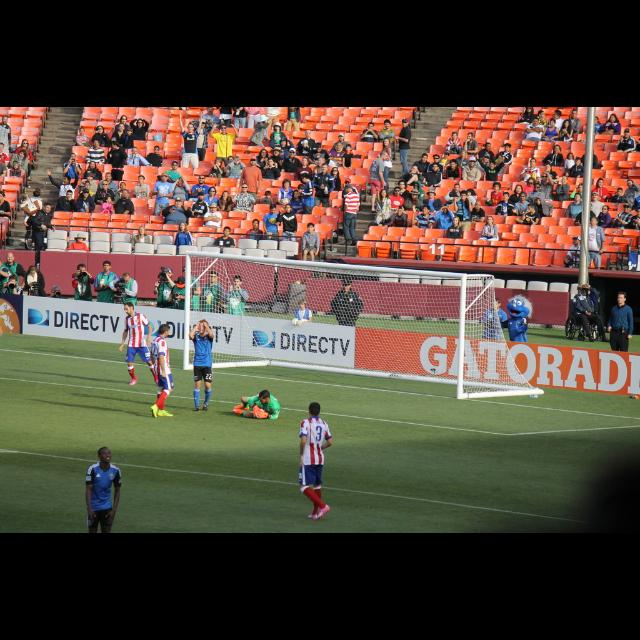Football: (240, 406, 252, 418)
